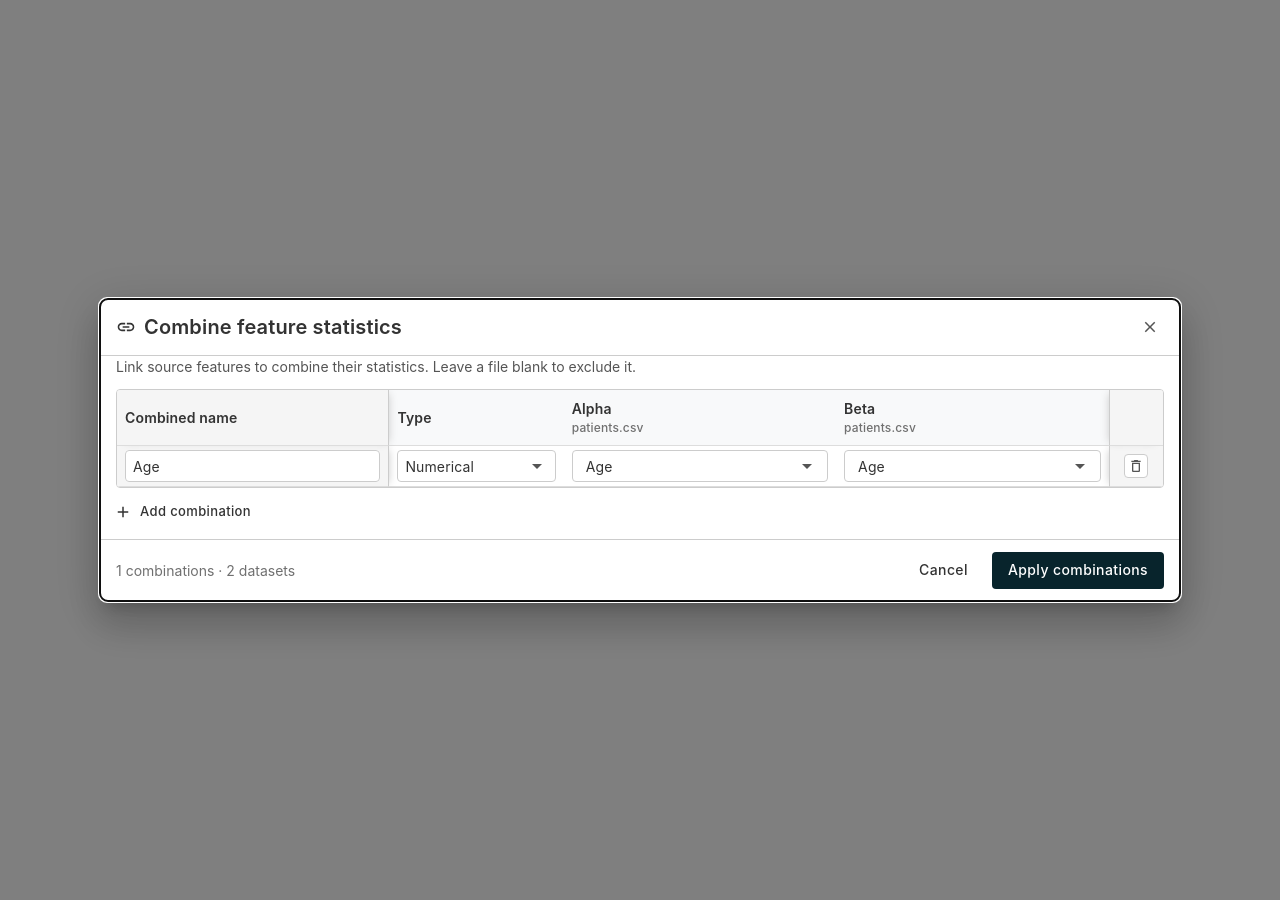
Scenario: keeps the editor open when refreshing mapped statistics fails
Step 1. Click the button "Apply combinations" → (1078, 570), box [992,552,1164,589]
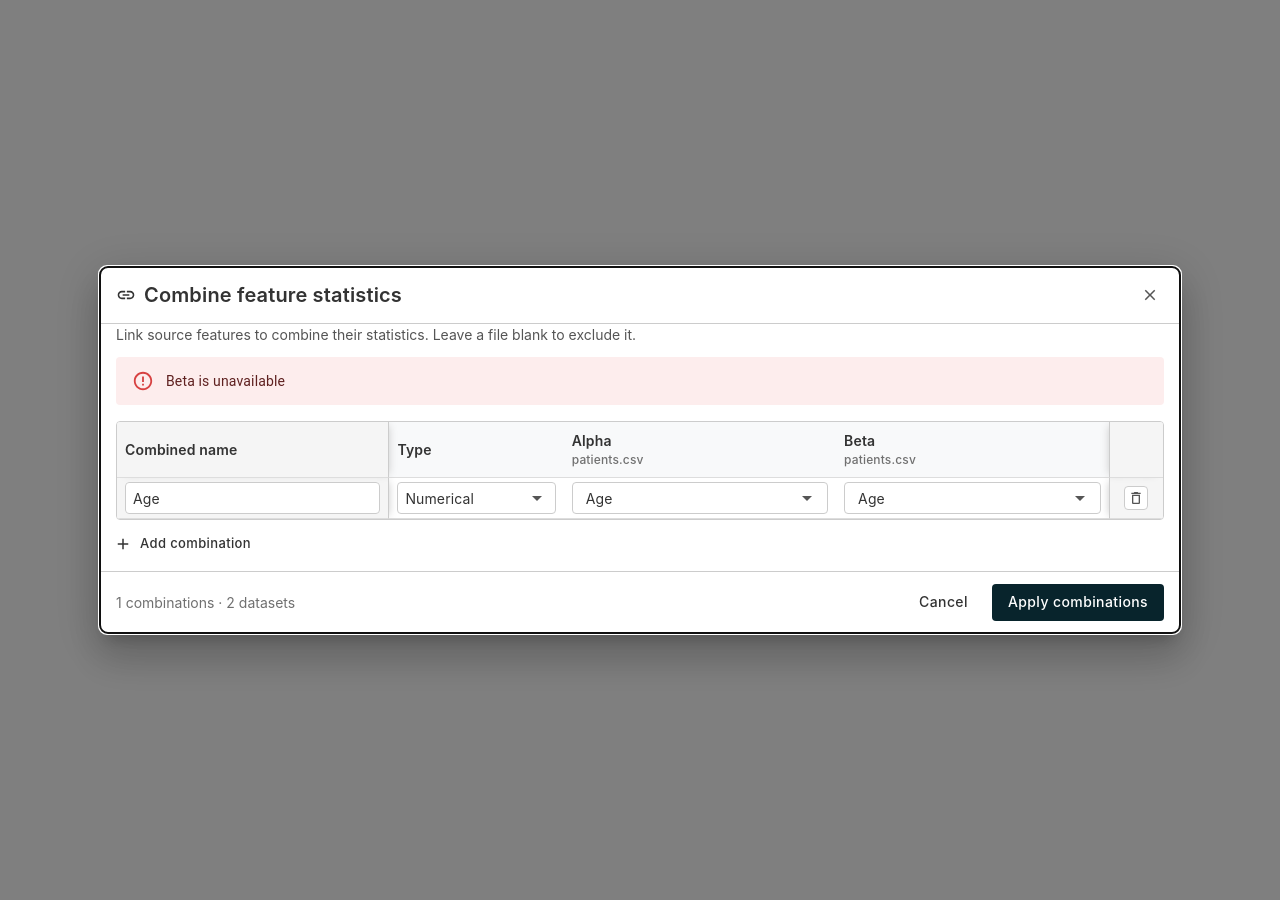
Expected: the button "Apply combinations" is enabled, [992,584,1164,621]
Expected: the message reads "Beta is unavailable", [166,373,285,389]
